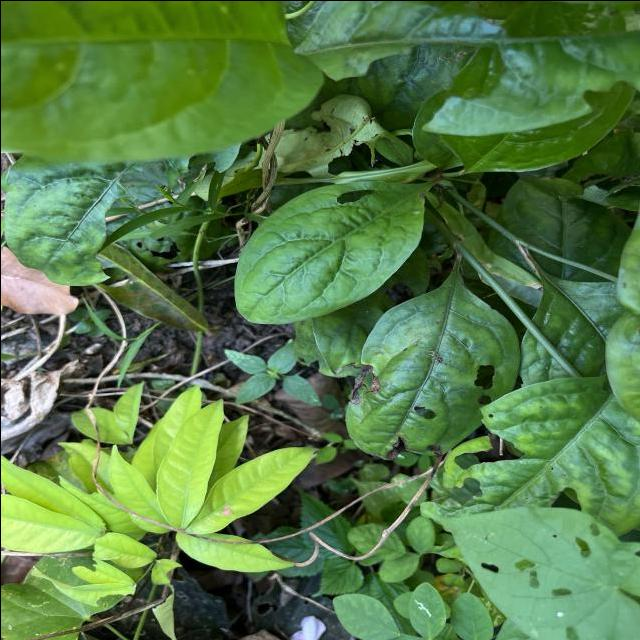Plumbago indica: (342, 285, 524, 465), (230, 175, 428, 330)
